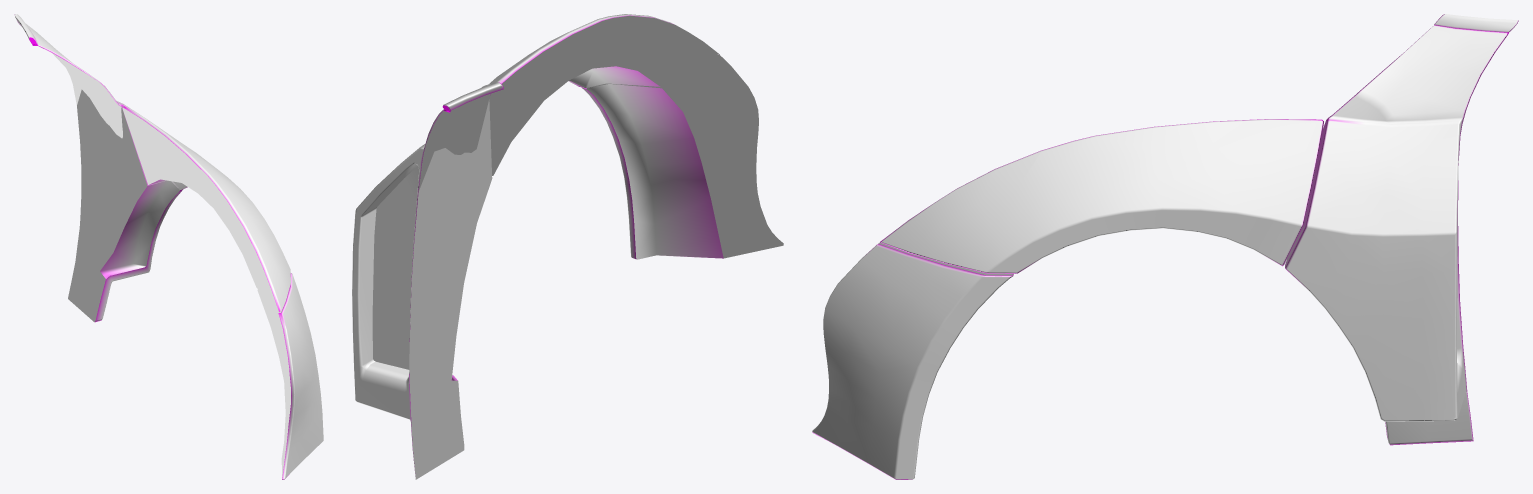
Rendered from Car_Mini_CountrymanJCW_2017_FenderFL_SetC.fbx.
The picture shows the model from 3 angles, left to right: view 1: azimuth 30°, elevation 25°; view 2: azimuth 150°, elevation 25°; view 3: azimuth 270°, elevation 25°; orthographic projection. The views are drawn at different scales.
Parts seen in each view (by area): view 1: FenderFL 6; view 2: FenderFL 6; view 3: FenderFL 6.
Part boxes in pixels (<box>): FenderFL 6: <box>14,14,323,479</box>; FenderFL 6: <box>352,14,783,479</box>; FenderFL 6: <box>812,14,1518,479</box>.
Bounding box in the file's own units: 0.281 × 0.7603 × 1.21.
